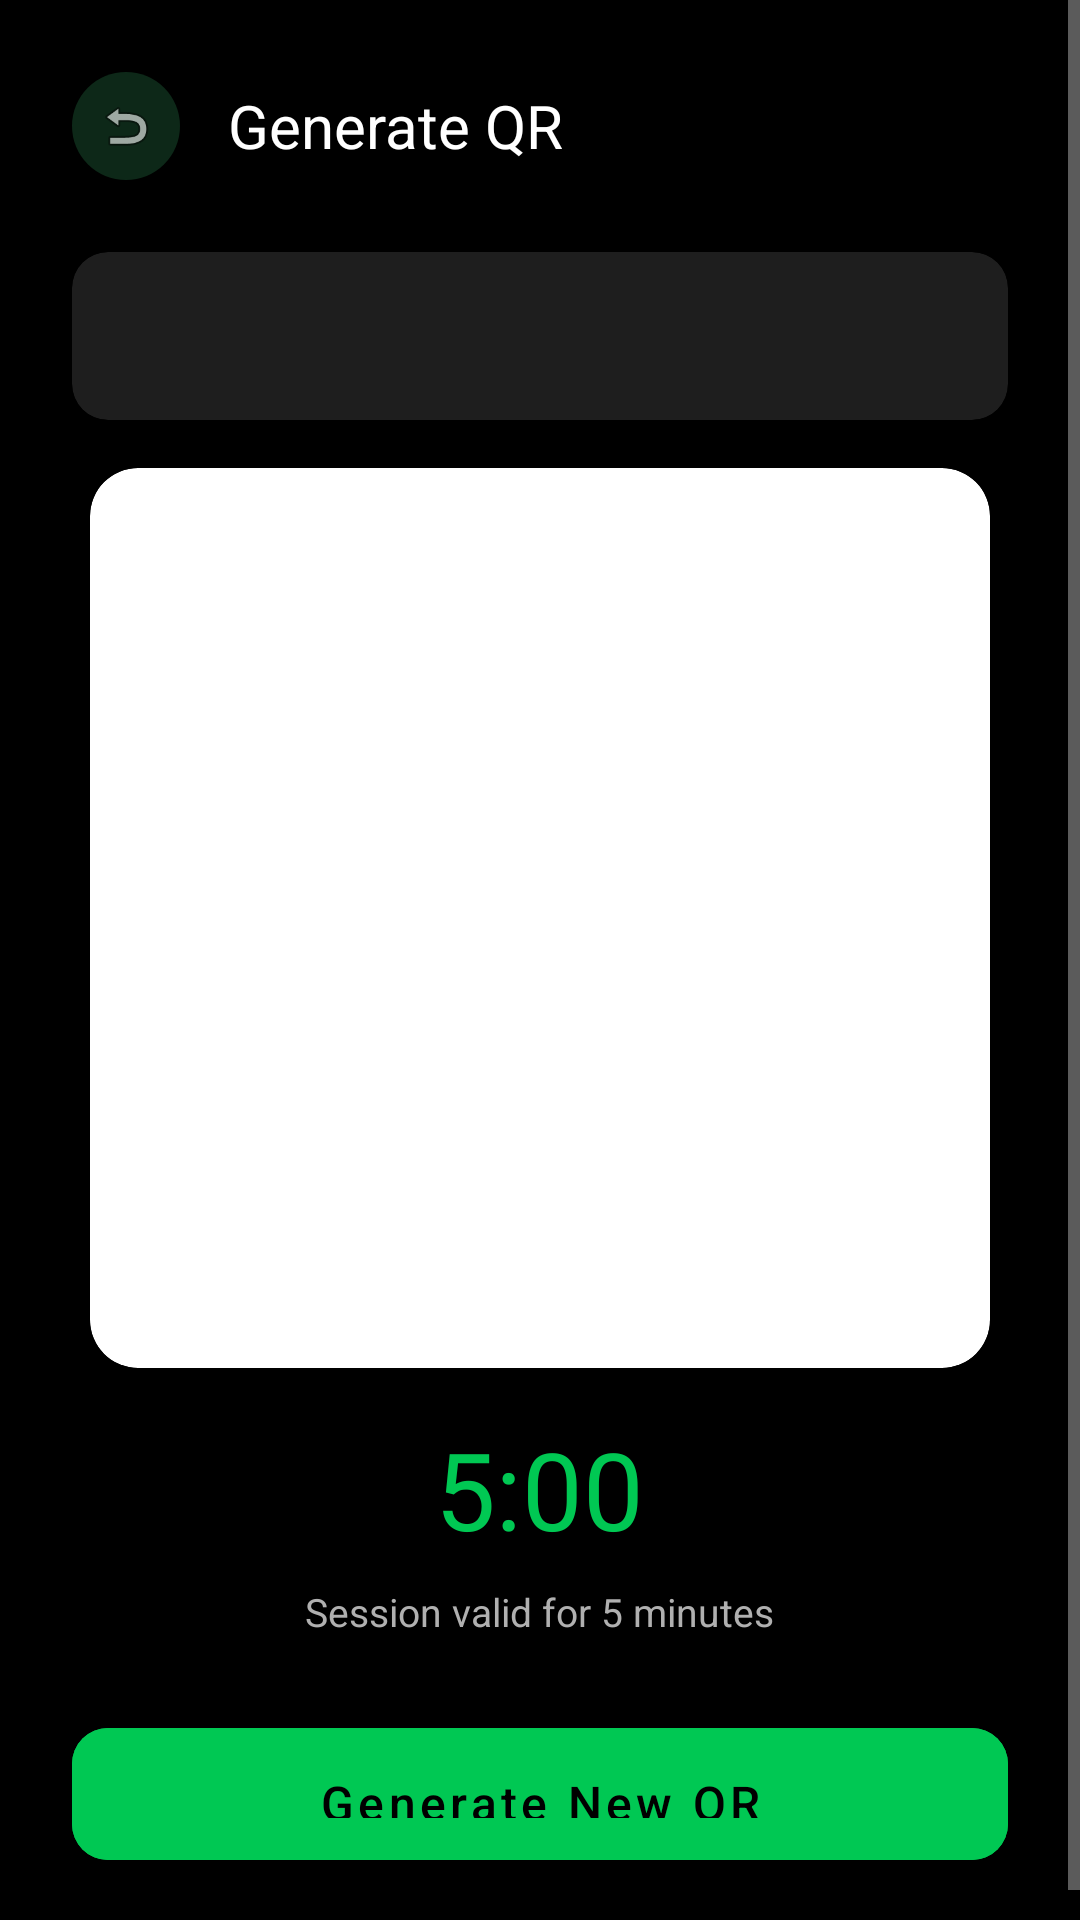

Icons on this 1080 x 1920 Android screen, each with its box as bbox=[x1, y1, x2, y2]:
revert: bbox=[72, 72, 180, 180]
